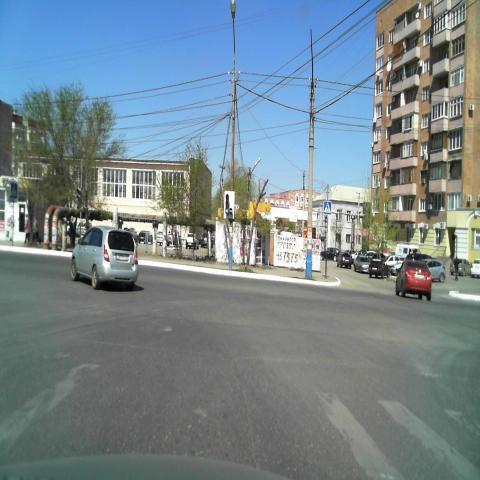5_19_1: (324, 200, 331, 214)
